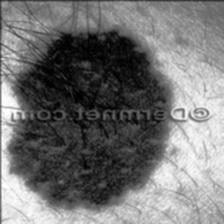Potentially Malignant Skin Tumors: (7, 24, 176, 208)
